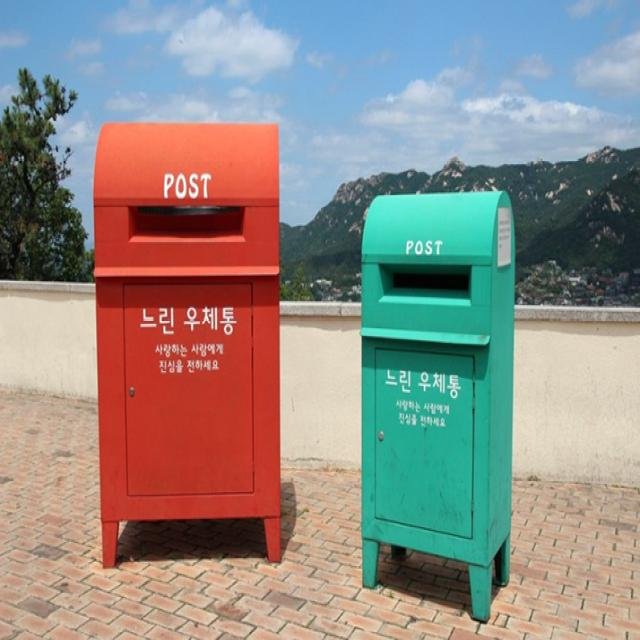Post Box: (92, 120, 282, 565), (359, 190, 518, 622)
